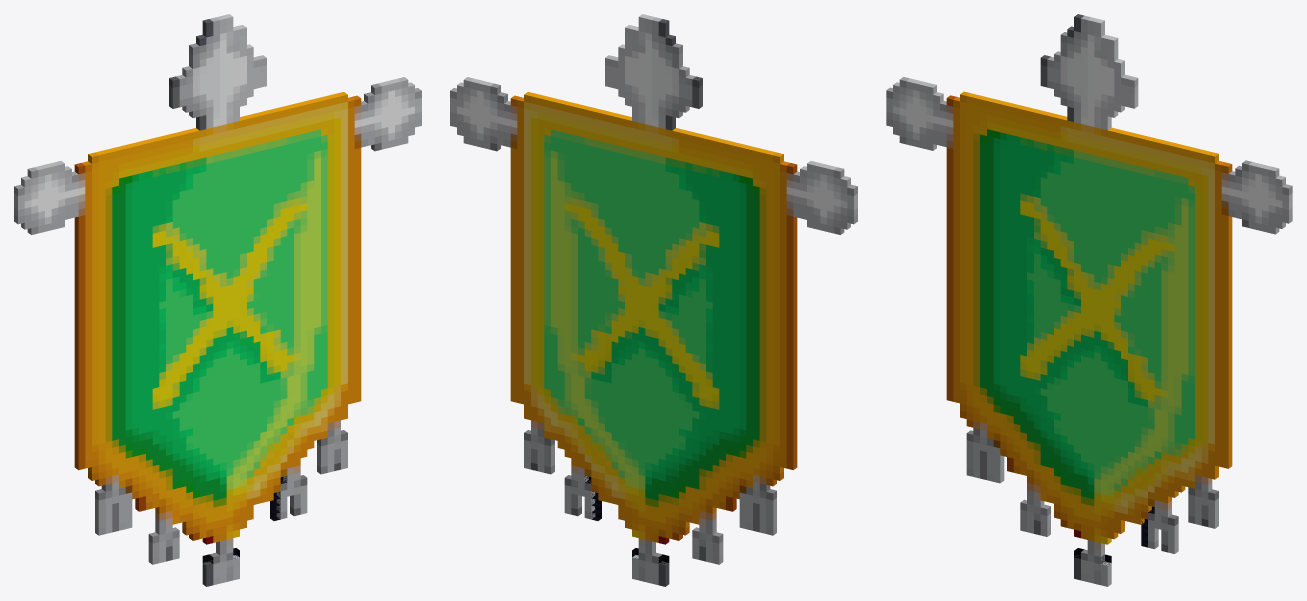
The model's file is Warbanner.fbx.
The picture shows the model from 3 angles, left to right: view 1: azimuth 30°, elevation 25°; view 2: azimuth 150°, elevation 25°; view 3: azimuth 330°, elevation 25°; orthographic projection.
Visible parts, largest first — view 1: warbanner; view 2: warbanner; view 3: warbanner.
Boxes of the visible parts, bbox=[...] form: warbanner: bbox=[14, 14, 421, 586]; warbanner: bbox=[450, 14, 857, 586]; warbanner: bbox=[886, 14, 1292, 586].
Size of the model in its own units: 5925 by 7900 by 98.75.
